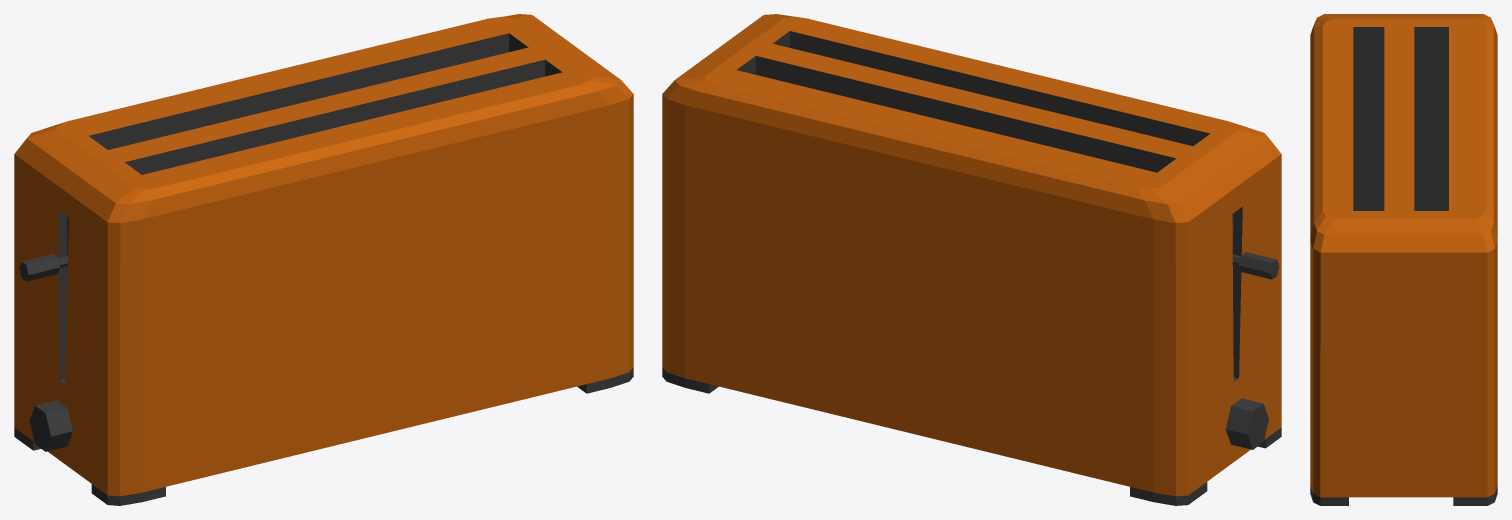
File: C_Toaster_1.fbx
3 renders of one model, left to right at view 1: azimuth 30°, elevation 25°; view 2: azimuth 150°, elevation 25°; view 3: azimuth 270°, elevation 25°, orthographic. The views are drawn at different scales.
Visible parts, largest first — view 1: C_Toaster_1; view 2: C_Toaster_1; view 3: C_Toaster_1.
Boxes of the visible parts, x1,y1,x2,y2 form: C_Toaster_1: (14,14,633,505); C_Toaster_1: (662,14,1281,505); C_Toaster_1: (1310,14,1497,505).
Size of the model in its own units: 402 by 129 by 207.
